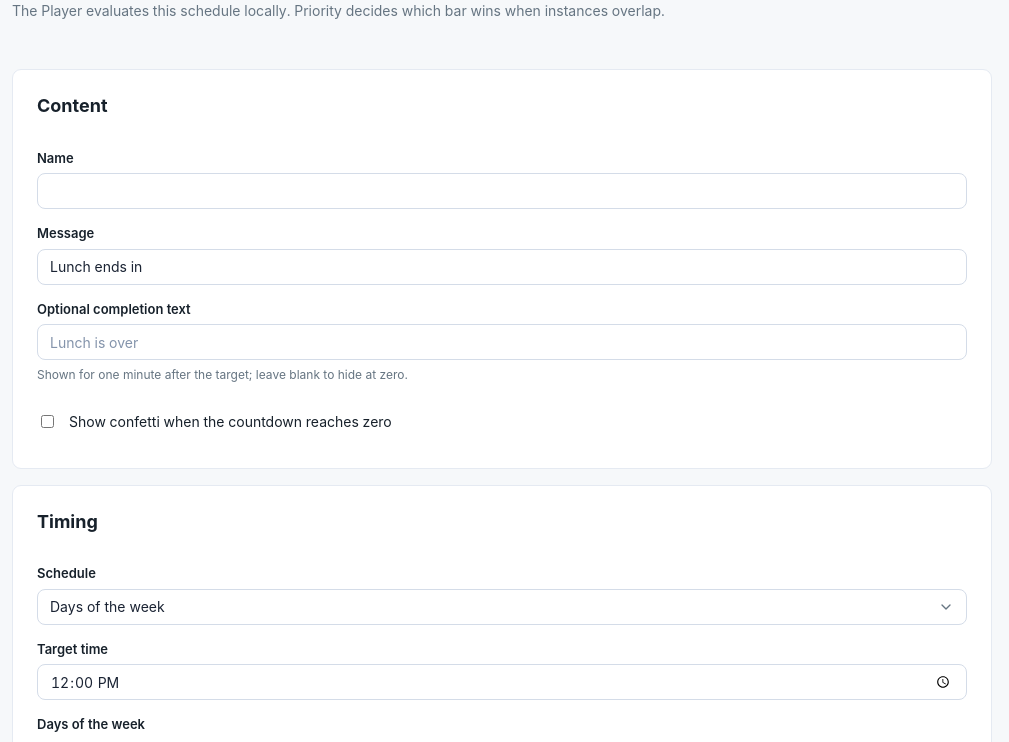
Plugins › keeps untouched urgency defaults linked to the total lead time
Type "Lunch" into the field labelled "Name" at {"x": 502, "y": 191}, box [37, 173, 967, 209]
(page scrolled)
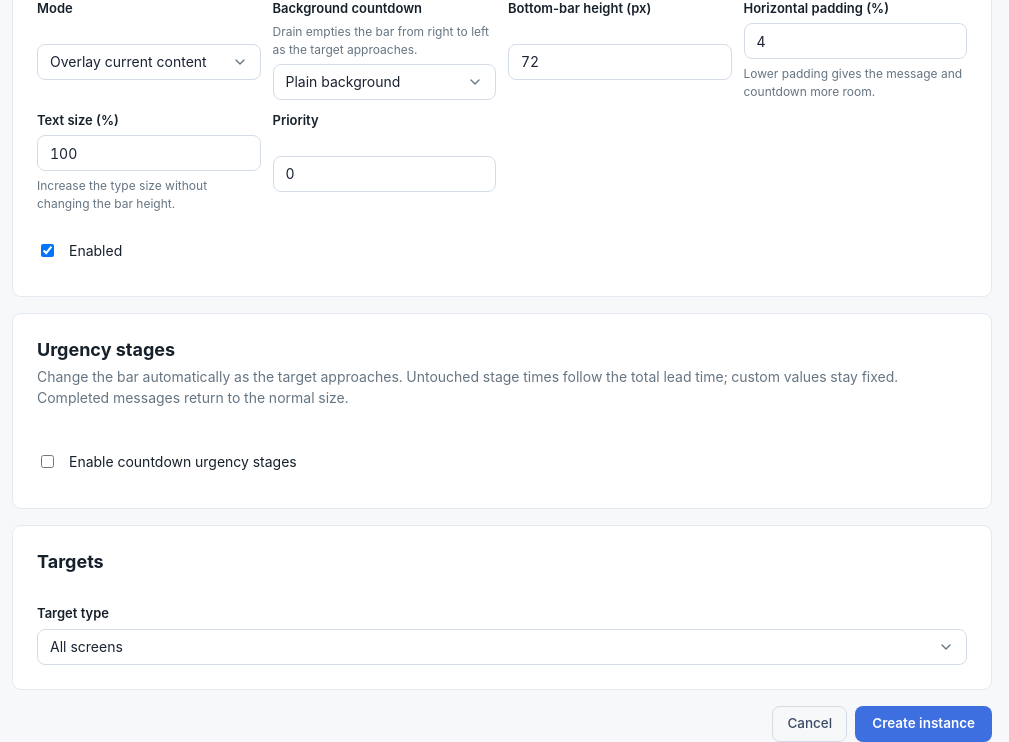
Click the checkbox labelled "Enable countdown urgency stages" at {"x": 48, "y": 462}, box [41, 455, 54, 468]
(page scrolled)
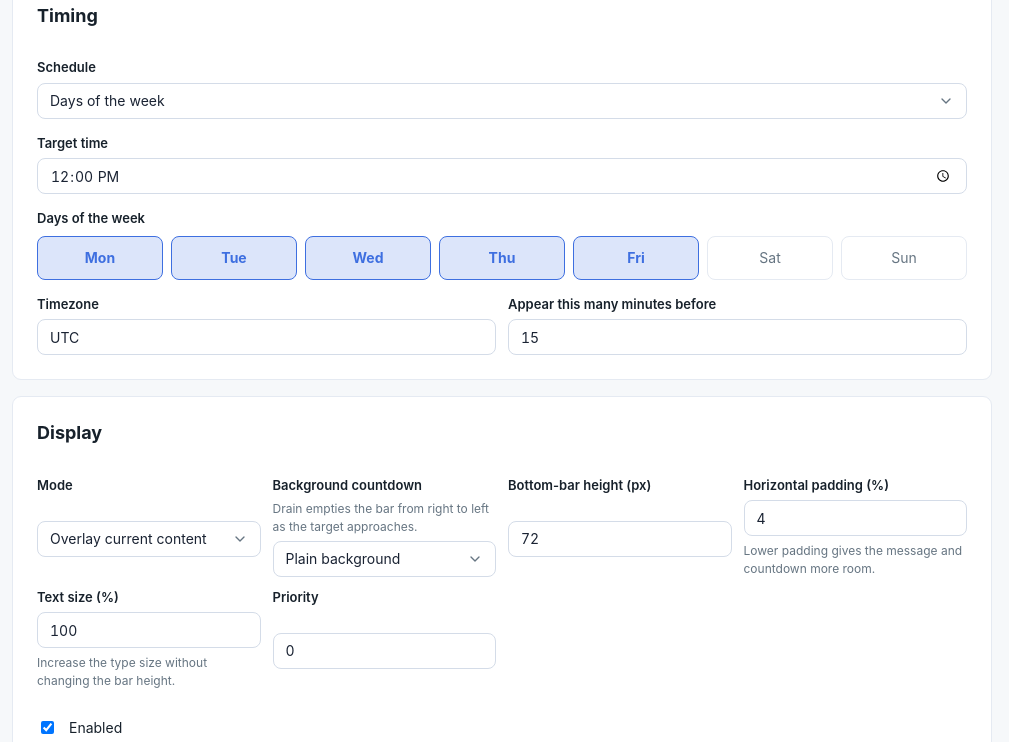
Replace the text in the number field labelled "Appear this many minutes before" with "30" at {"x": 738, "y": 337}, box [508, 319, 967, 355]
(page scrolled)
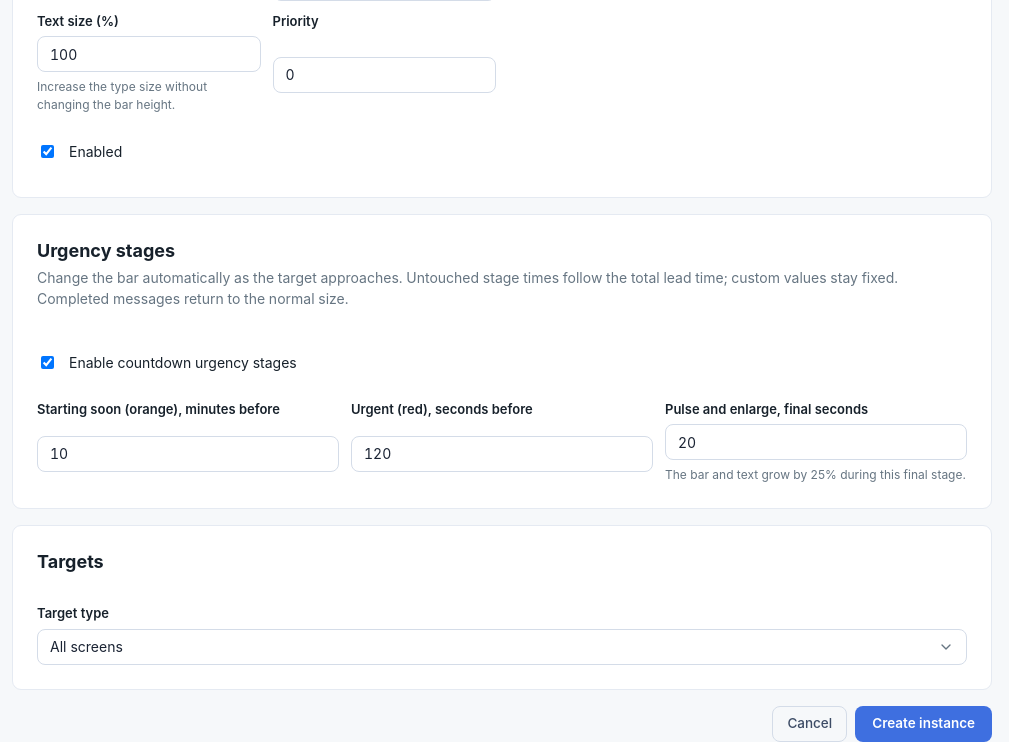
Expected: the number field labelled "Starting soon (orange), minutes before" holds "10", [37, 436, 339, 472]
Expected: the number field labelled "Urgent (red), seconds before" holds "120"
Expected: the number field labelled "Pulse and enlarge" holds "20", [665, 424, 967, 460]
Replace the text in the number field labelled "Urgent (red), seconds before" with "90" at {"x": 502, "y": 454}, box [351, 436, 653, 472]
(page scrolled)
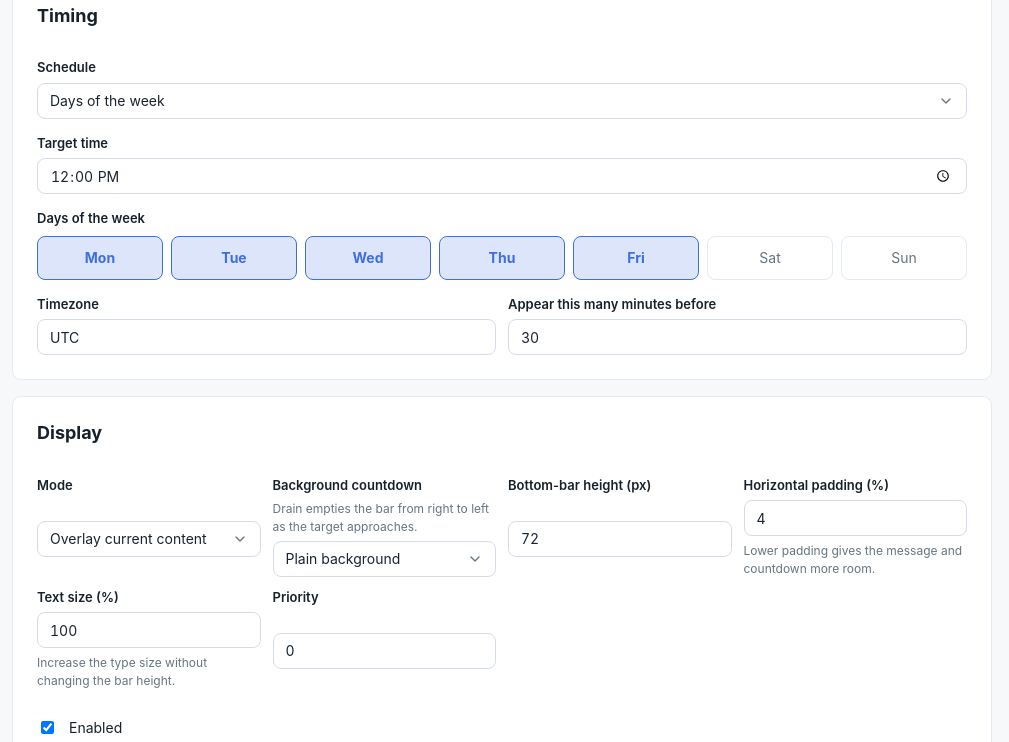
Replace the text in the number field labelled "Appear this many minutes before" with "45" at {"x": 738, "y": 337}, box [508, 319, 967, 355]
(page scrolled)
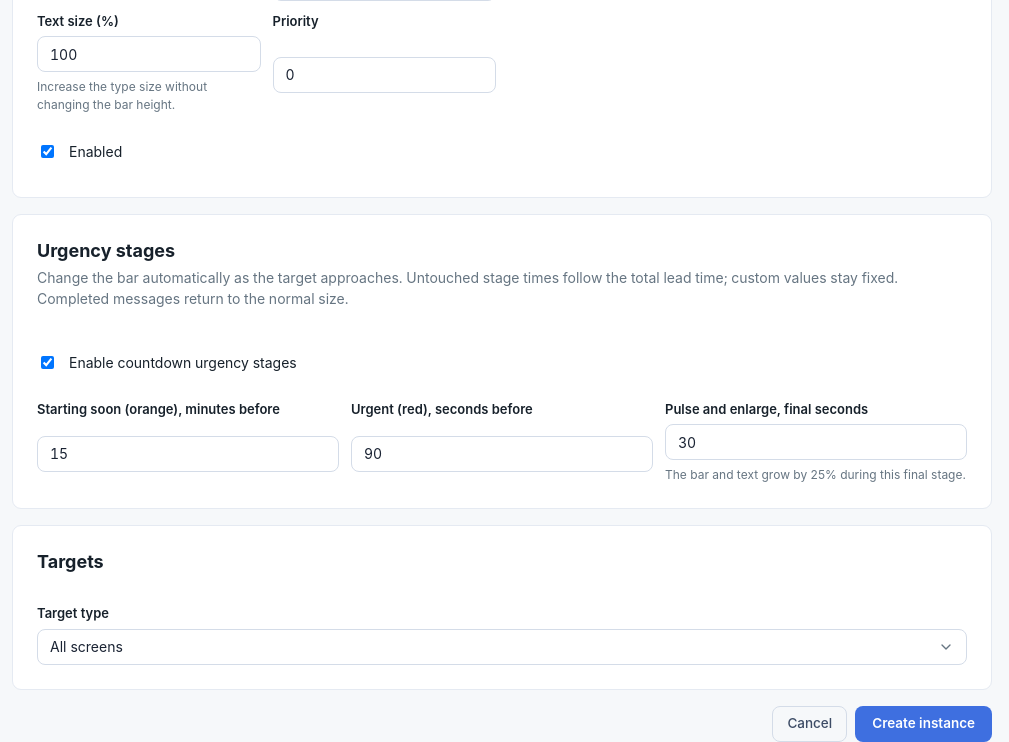
Expected: the number field labelled "Starting soon (orange), minutes before" holds "15", [37, 436, 339, 472]
Expected: the number field labelled "Pulse and enlarge" holds "30", [665, 424, 967, 460]
